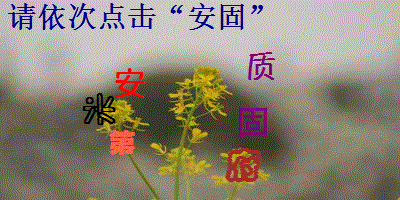result: (187, 1, 246, 31)
text: (226, 147, 262, 184), (80, 92, 118, 127), (113, 66, 148, 100), (236, 105, 269, 139), (246, 51, 277, 82), (107, 128, 138, 157)
